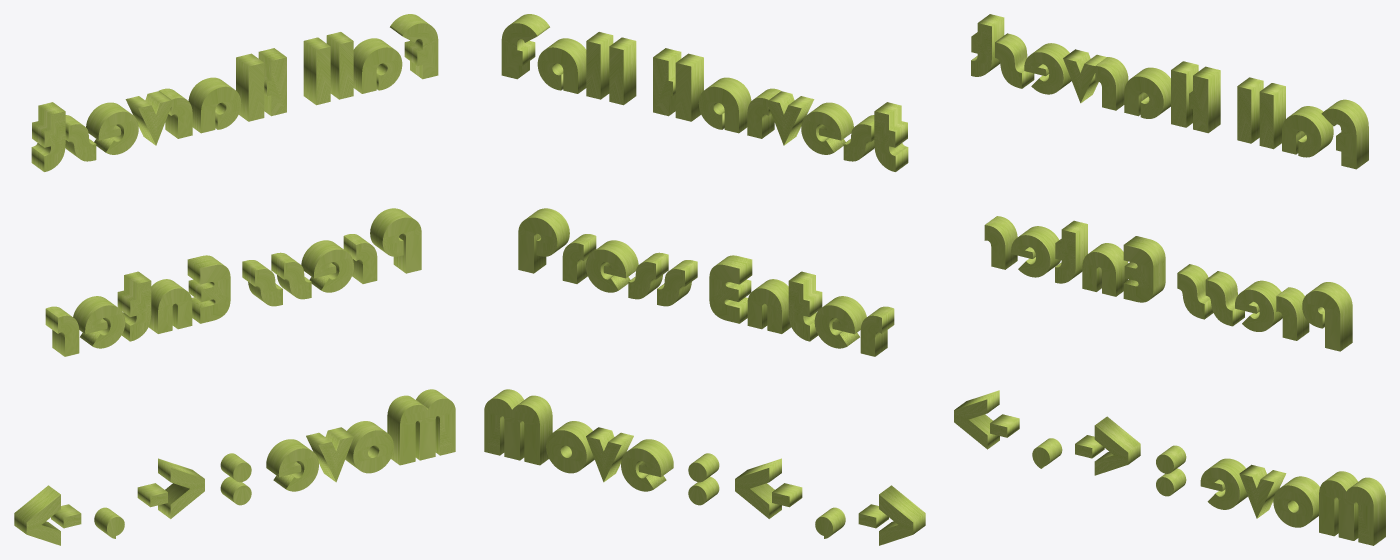
The model's file is Title.obj.
3 views of the same model, side by side, from view 1: azimuth 30°, elevation 25°; view 2: azimuth 150°, elevation 25°; view 3: azimuth 330°, elevation 25° (orthographic). The views are drawn at different scales.
Parts seen in each view (by area): view 1: テキスト; view 2: テキスト; view 3: テキスト.
Part boxes in pixels (left/top/right/bottom): テキスト: left=14, top=14, right=455, bottom=545; テキスト: left=484, top=14, right=925, bottom=545; テキスト: left=954, top=14, right=1385, bottom=545.
Size of the model in its own units: 4.72 by 4.64 by 0.24.
1 material, 1 textured.
